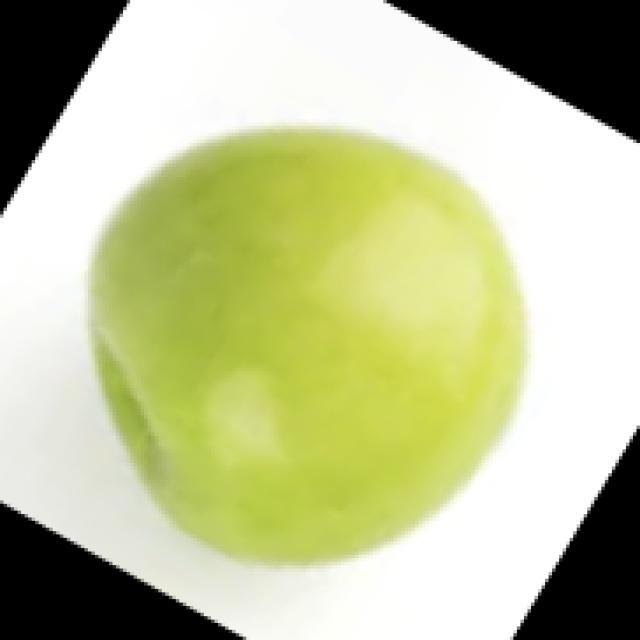Fresh Apple: (102, 140, 528, 578)
